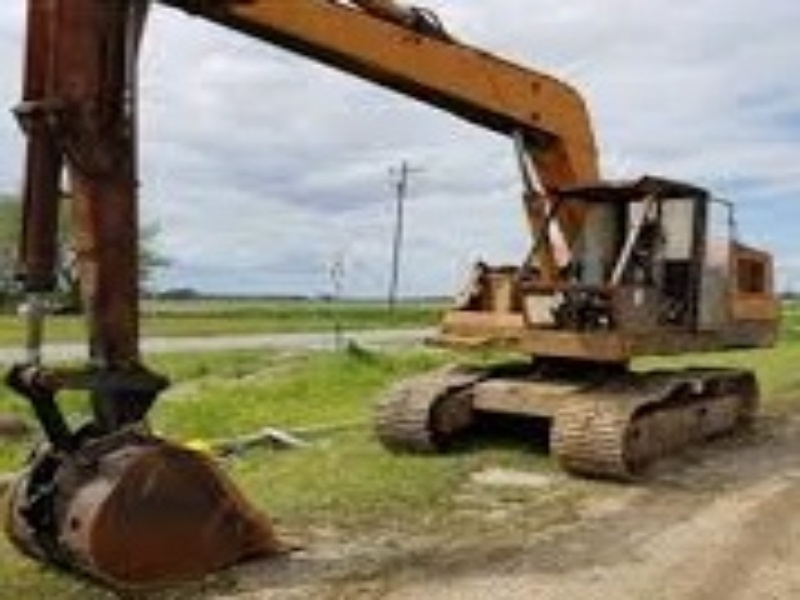wajueji: (365, 113, 792, 491)
